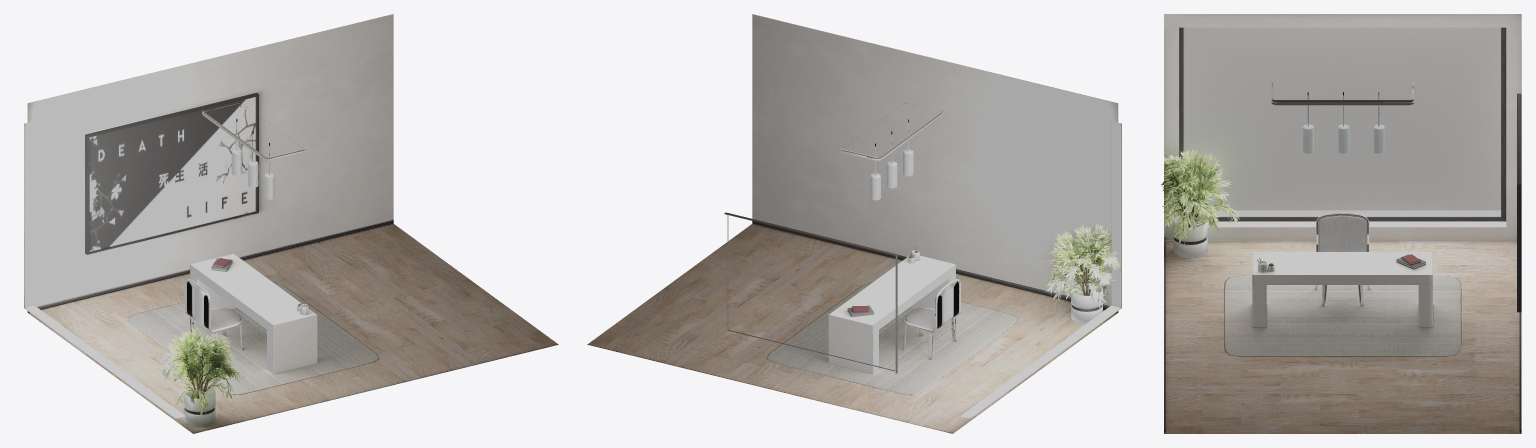
Rendered from modern_office_no_roof.glb.
3 renders of one model, left to right at view 1: azimuth 30°, elevation 25°; view 2: azimuth 150°, elevation 25°; view 3: azimuth 270°, elevation 25°, orthographic. The views are drawn at different scales.
Visible parts, largest first — view 1: Window; view 2: Window; view 3: Window.
Boxes of the visible parts, x1,y1,x2,y2 form: Window: [24, 14, 558, 433]; Window: [587, 14, 1121, 433]; Window: [1161, 14, 1521, 433].
Bounding box in the file's own units: 5.98 × 3.08 × 4.44.
11 materials, 11 textured.
